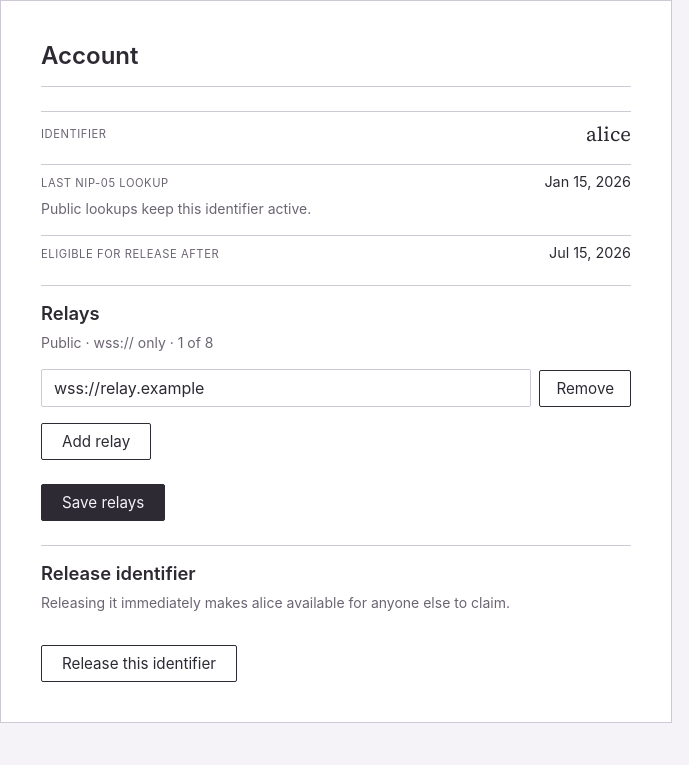
Scenario: account relay editor › clears a row error when removing a relay
Click the button "Save relays": (103, 502) [41,484,165,521]
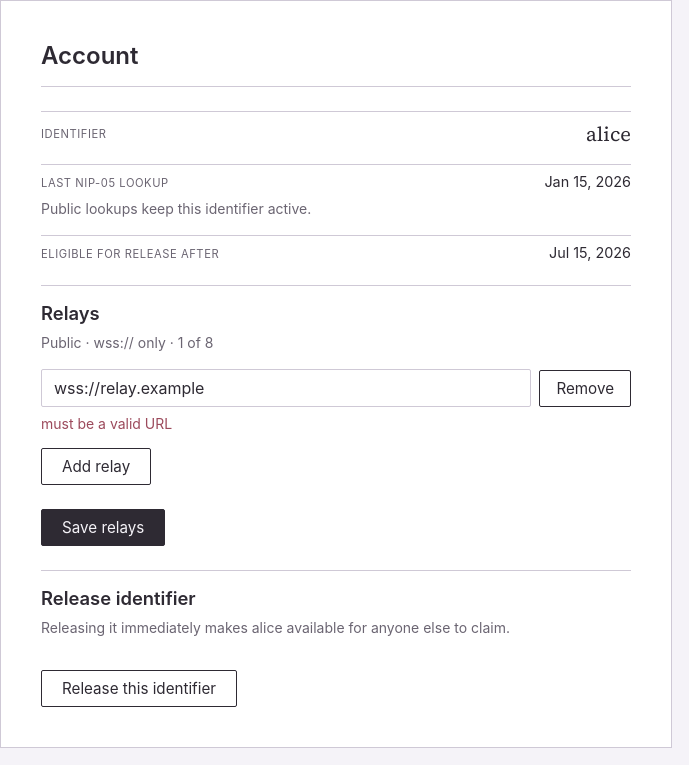
Check: the message "must be a valid URL" is shown, box [41,415,172,432]
Click the button "Remove": (585, 388) [539,370,631,406]
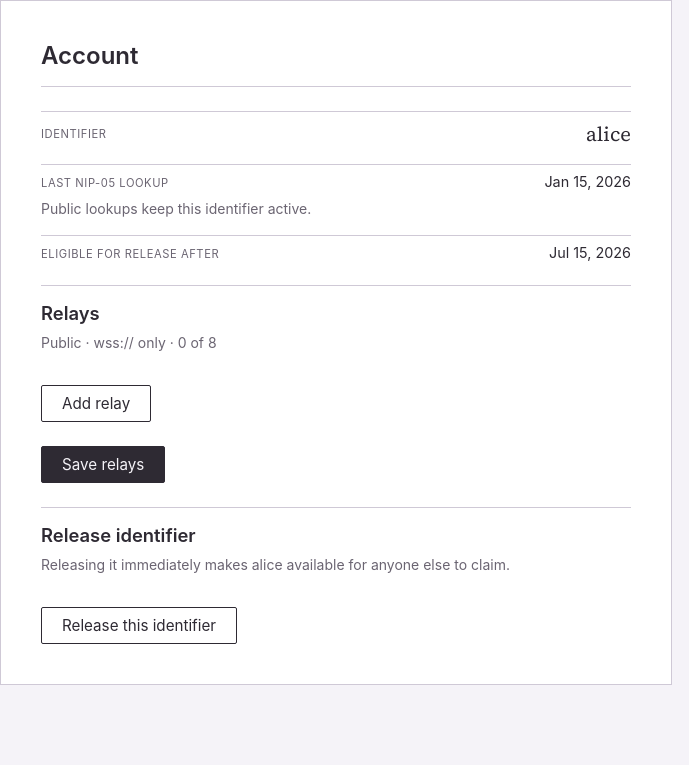
Check: the field with id "relay-0-error" is gone
